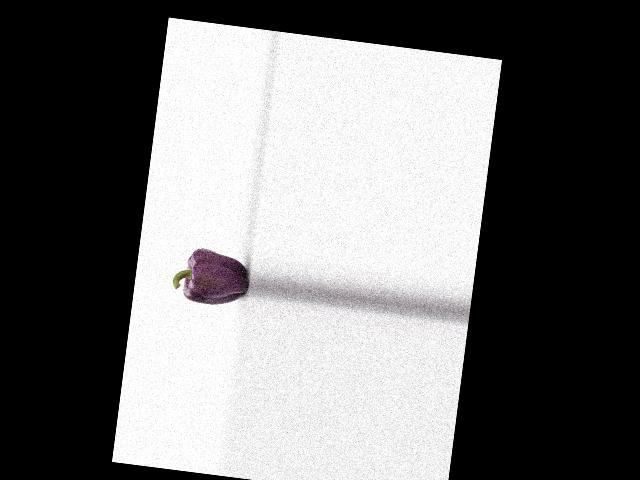bell_pepper: (170, 241, 251, 314)
